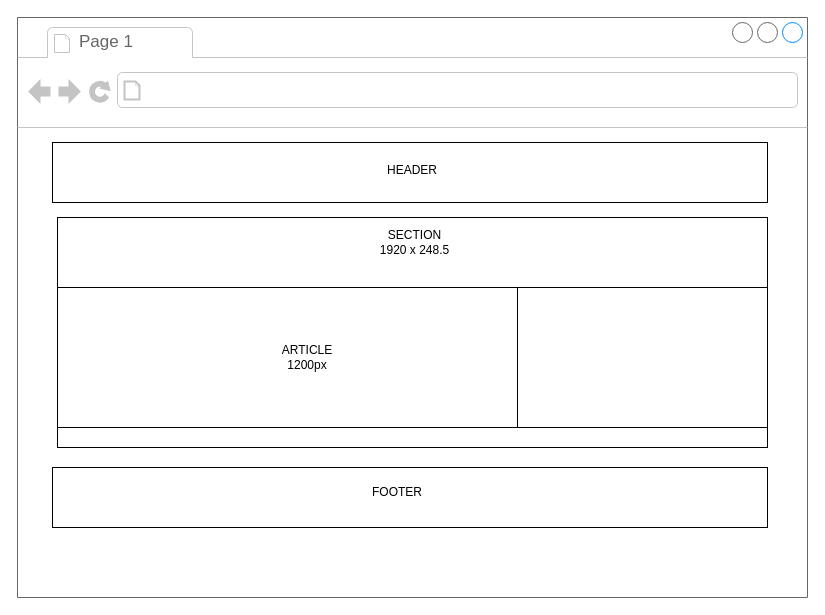
Image size: 825x615. Some labels were removed from this diagram. Each missing label, with the centre of its shape:
ASIDE 720px: (x=642, y=357)
https://www.draw.io: (x=272, y=90)
